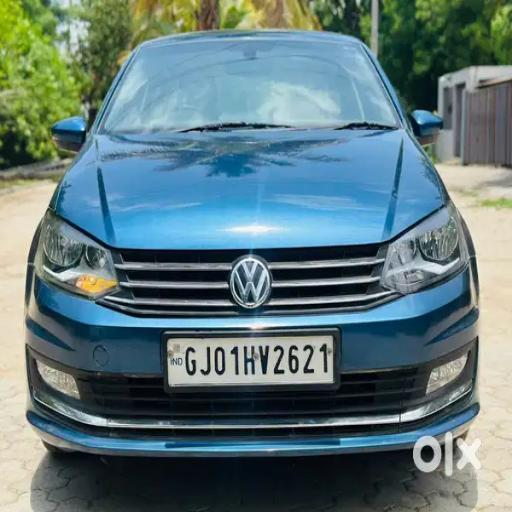License: (162, 328, 341, 394)
